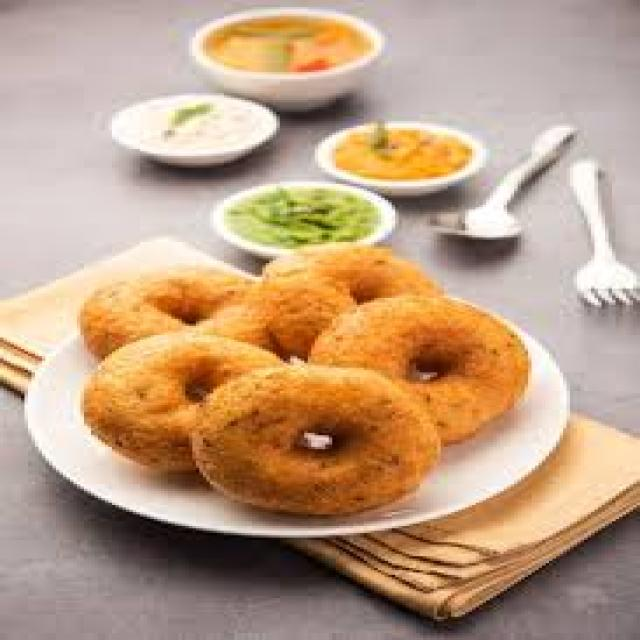MEDU VADA: (192, 370, 434, 512), (308, 296, 518, 442), (84, 330, 276, 470), (259, 247, 437, 356), (80, 265, 273, 358)
